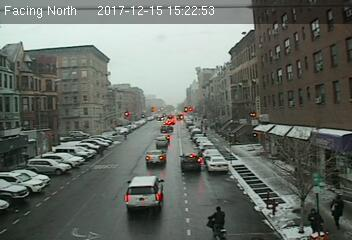bicycle: (207, 205, 229, 239)
car: (124, 174, 164, 209), (206, 156, 229, 173), (144, 149, 166, 165), (180, 154, 200, 171), (154, 136, 167, 147)
